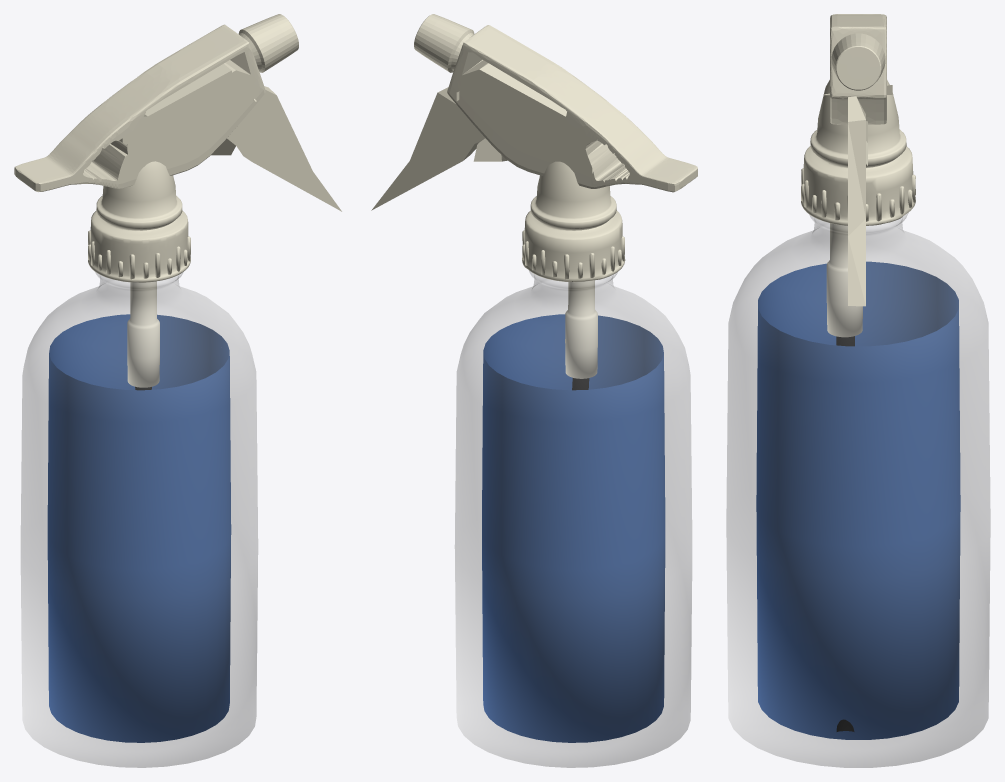
The model's file is 喷雾器.fbx.
3 renders of one model, left to right at view 1: azimuth 30°, elevation 25°; view 2: azimuth 150°, elevation 25°; view 3: azimuth 270°, elevation 25°, orthographic. The views are drawn at different scales.
Parts seen in each view (by area): view 1: Spray Bottle, Spray Bottle.001, Spray Bottle.002; view 2: Spray Bottle, Spray Bottle.001, Spray Bottle.002; view 3: Spray Bottle, Spray Bottle.001, Spray Bottle.002.
Boxes of the visible parts, bbox=[...] form: Spray Bottle: bbox=[14, 14, 298, 767]; Spray Bottle.001: bbox=[47, 314, 231, 742]; Spray Bottle.002: bbox=[211, 86, 341, 211]; Spray Bottle: bbox=[414, 14, 697, 767]; Spray Bottle.001: bbox=[482, 314, 665, 742]; Spray Bottle.002: bbox=[371, 87, 507, 210]; Spray Bottle: bbox=[726, 14, 990, 767]; Spray Bottle.001: bbox=[756, 261, 960, 739]; Spray Bottle.002: bbox=[848, 96, 867, 306].
Size of the model in its own units: 132 by 271 by 86.19.
